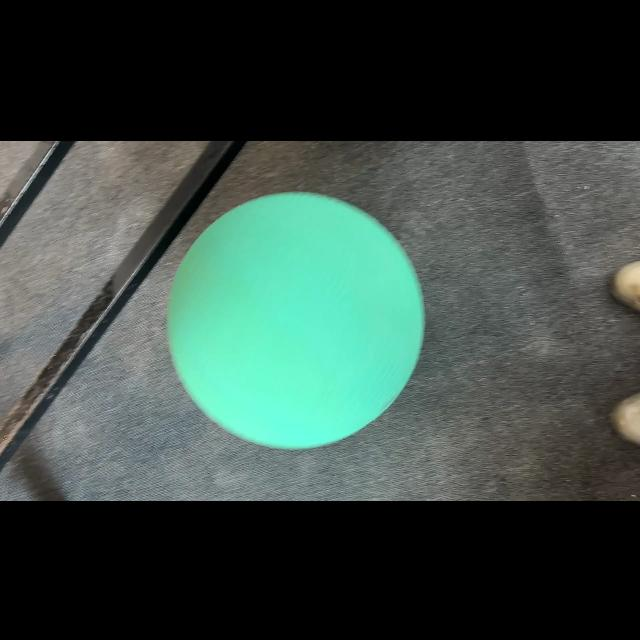ALGAE: (167, 190, 426, 450)
